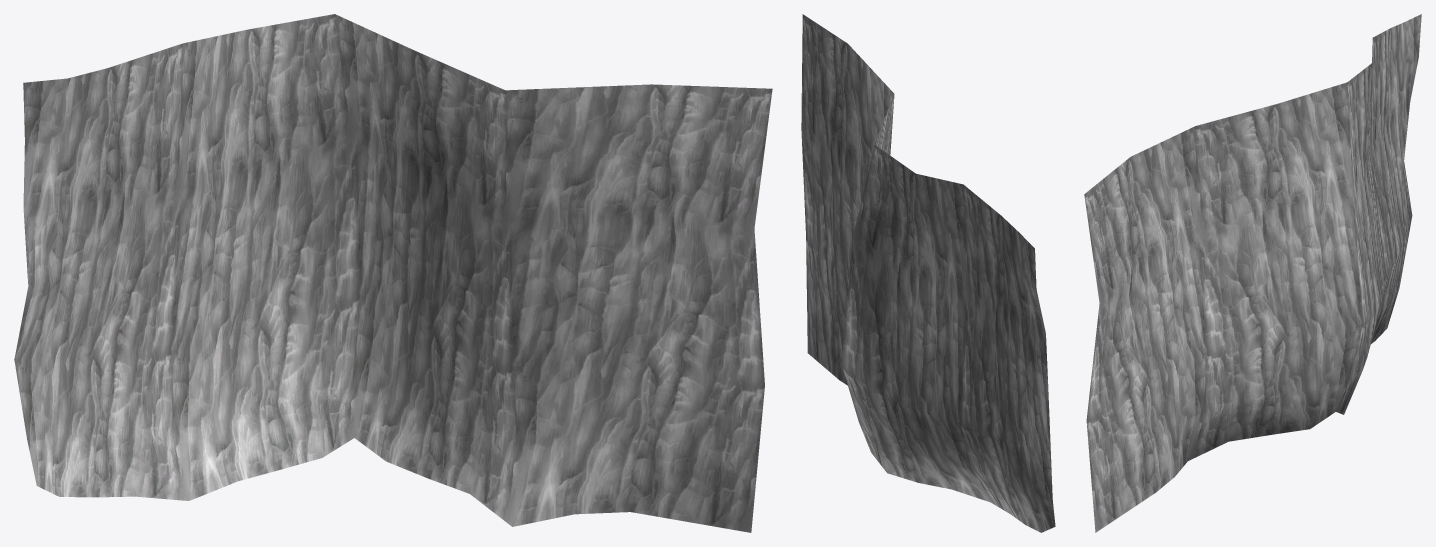
File: SWORDLIGHT20_PS-AREA03_194.fbx
The picture shows the model from 3 angles, left to right: view 1: azimuth 30°, elevation 25°; view 2: azimuth 150°, elevation 25°; view 3: azimuth 270°, elevation 25°; orthographic projection. The views are drawn at different scales.
Parts seen in each view (by area): view 1: SWORDLIGHT20_PS-AREA03_194; view 2: SWORDLIGHT20_PS-AREA03_194; view 3: SWORDLIGHT20_PS-AREA03_194.
Part boxes in pixels (x1,y1,x2,y2): SWORDLIGHT20_PS-AREA03_194: (14, 14, 772, 532); SWORDLIGHT20_PS-AREA03_194: (801, 14, 1055, 532); SWORDLIGHT20_PS-AREA03_194: (1084, 14, 1421, 532).
Bounding box in the file's own units: 184563 × 149105 × 128297.
Materials: 1 (1 with a texture image).
